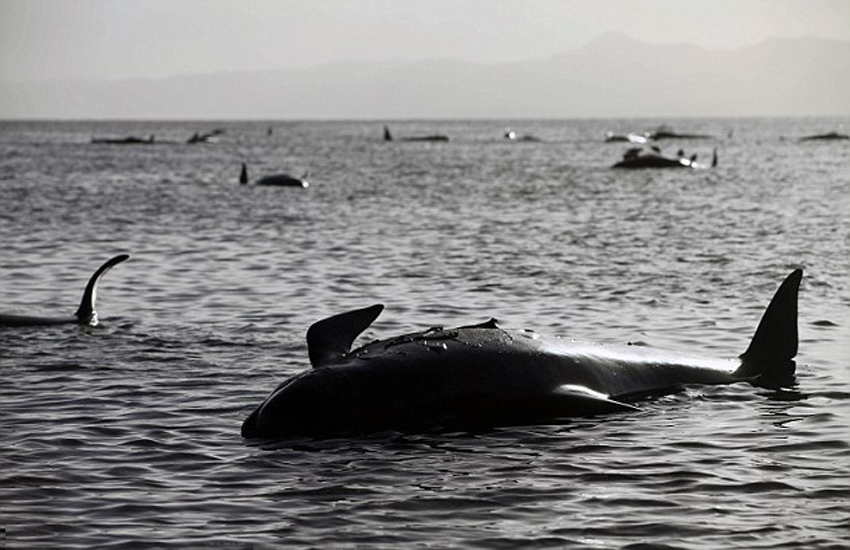fish: (238, 265, 806, 446)
